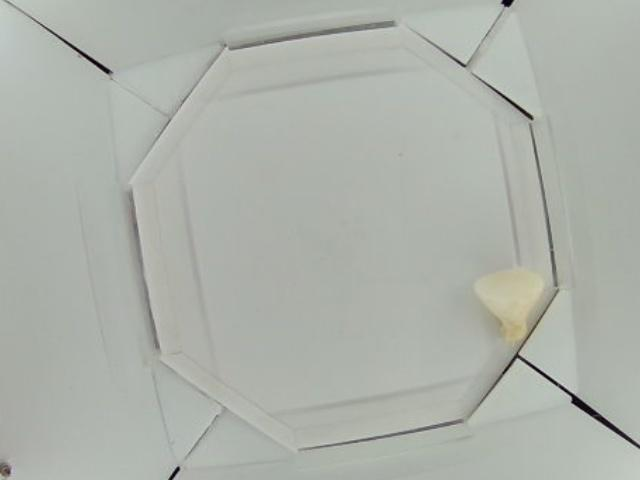Mooli: (472, 263, 545, 345)
